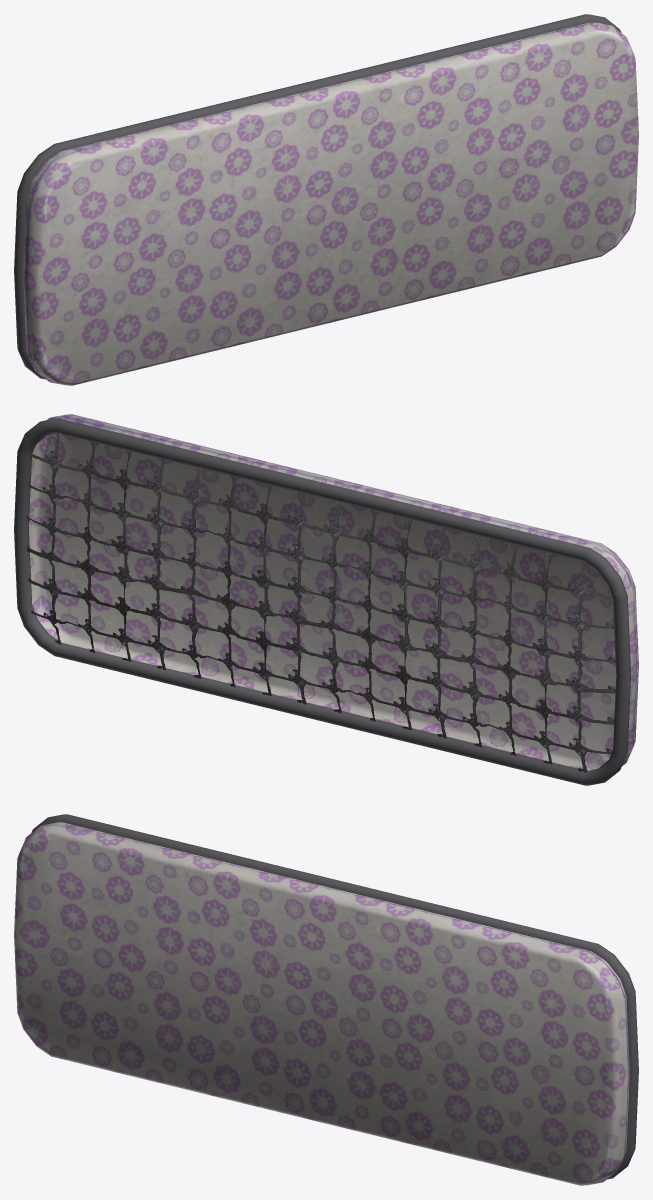
The model's file is nt_2020_mattress_small_LOD0.obj.
3 renders of one model, top to bottom at view 1: azimuth 30°, elevation 25°; view 2: azimuth 150°, elevation 25°; view 3: azimuth 330°, elevation 25°, orthographic.
Parts seen in each view (by area): view 1: mtl_nt_2020_mattress; view 2: mtl_nt_2020_mattress, mtl_p_rus_bedframe; view 3: mtl_nt_2020_mattress.
Boxes of the visible parts, <box> form: mtl_nt_2020_mattress: <box>14,14,638,385</box>; mtl_nt_2020_mattress: <box>14,414,638,785</box>; mtl_p_rus_bedframe: <box>26,433,615,772</box>; mtl_nt_2020_mattress: <box>14,814,638,1185</box>.
Size of the model in its own units: 235 by 86.6 by 15.08.
